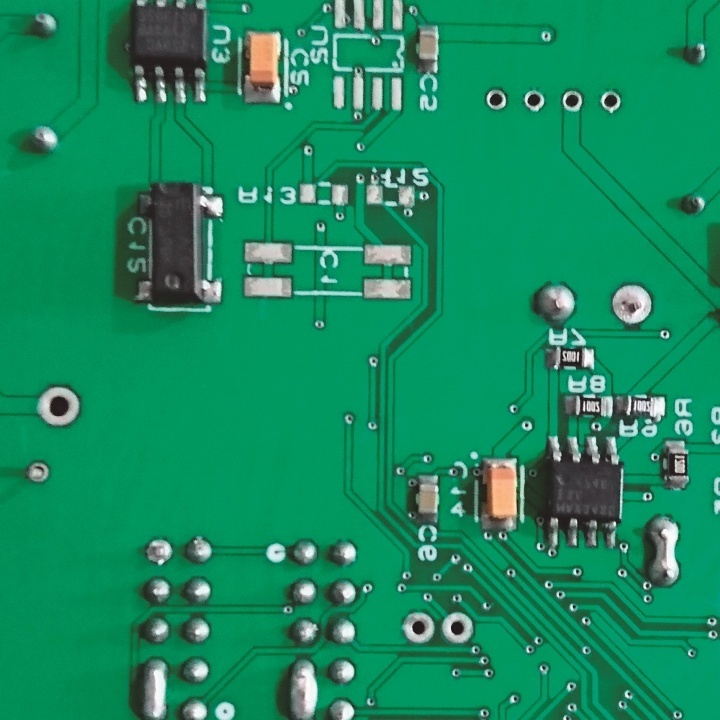F: (608, 280, 656, 331), (35, 383, 83, 432), (438, 609, 479, 648), (141, 533, 177, 572), (401, 609, 436, 648), (21, 458, 51, 489), (481, 84, 507, 113), (558, 87, 584, 115), (597, 88, 623, 116), (521, 88, 547, 115)
P: (644, 511, 682, 590), (281, 654, 322, 720), (135, 652, 170, 720)
